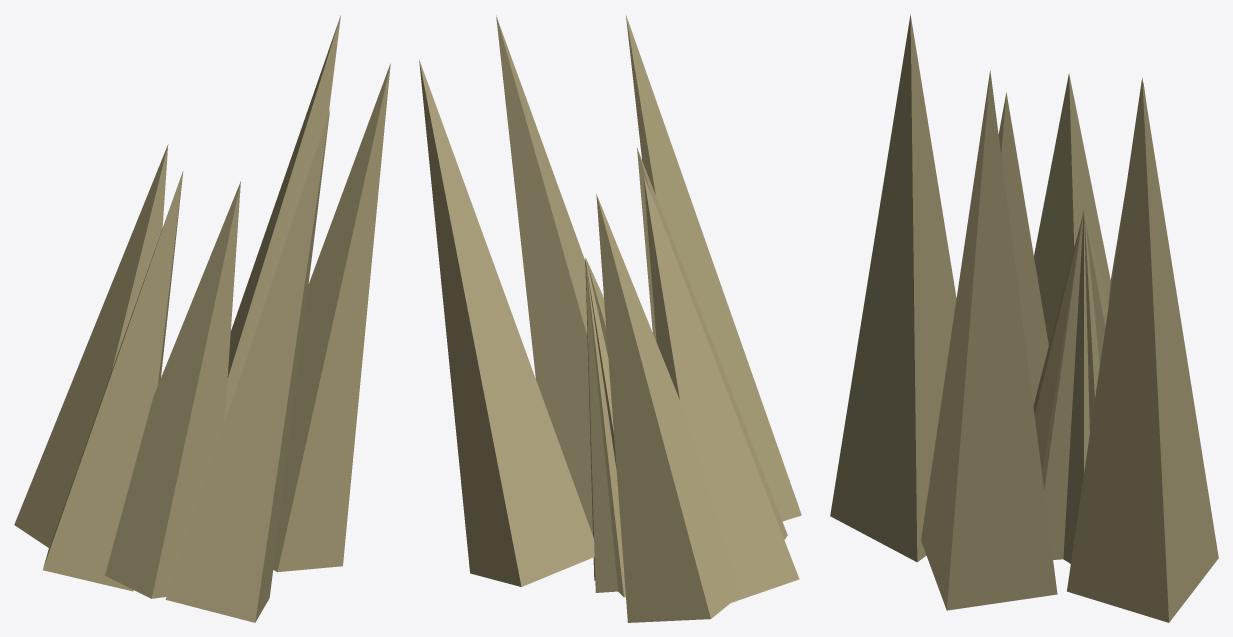
File: foliage_grass_dry.glb
The picture shows the model from 3 angles, left to right: view 1: azimuth 30°, elevation 25°; view 2: azimuth 150°, elevation 25°; view 3: azimuth 270°, elevation 25°; orthographic projection. The views are drawn at different scales.
Visible parts, largest first — view 1: scenery_dry; view 2: scenery_dry; view 3: scenery_dry.
Boxes of the visible parts, x1,y1,x2,y2 form: scenery_dry: (14, 15, 390, 622); scenery_dry: (419, 15, 801, 622); scenery_dry: (830, 14, 1218, 622).
Size of the model in its own units: 0.7028 by 0.9655 by 0.58.
